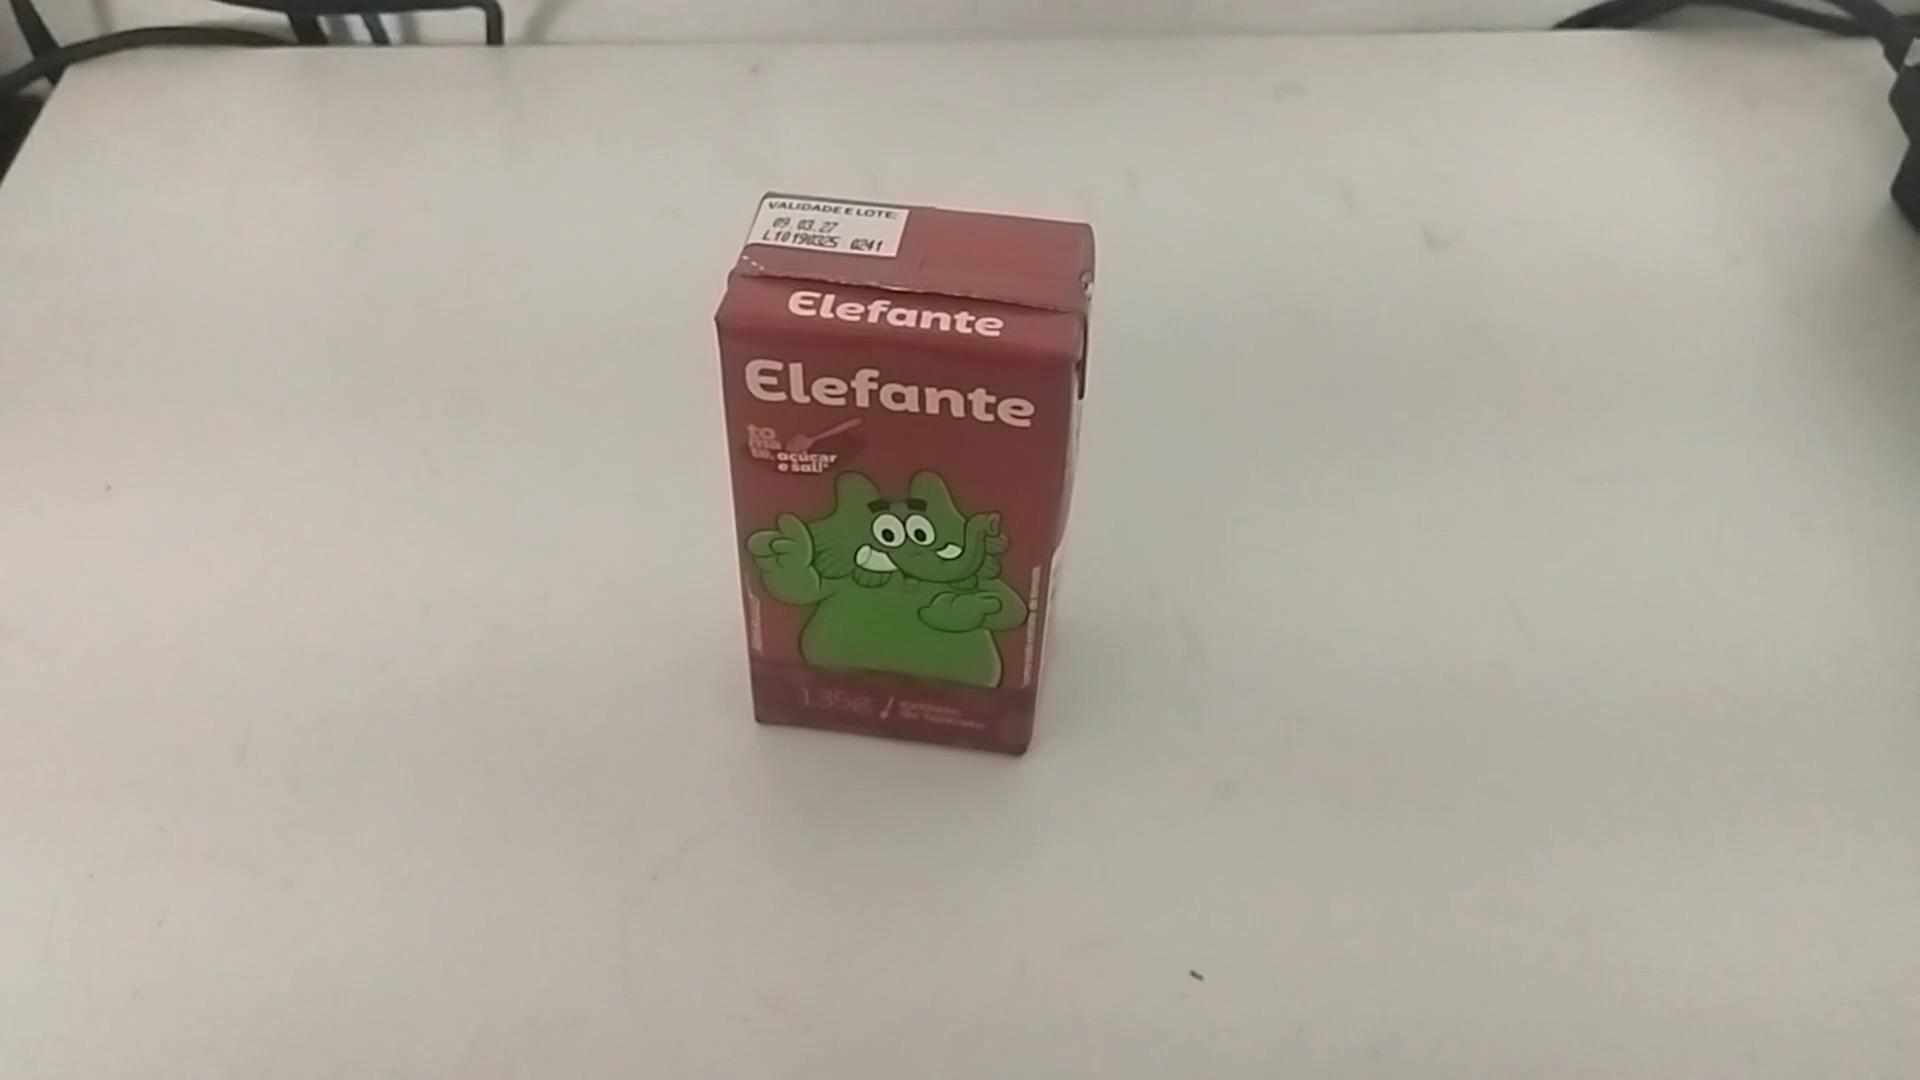tomate: (708, 185, 1112, 761)
